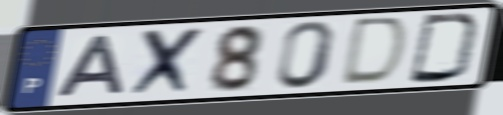0: (275, 19, 339, 91)
8: (207, 22, 268, 94)
A: (53, 33, 128, 100)
D: (406, 12, 485, 85), (336, 14, 411, 88)
X: (124, 24, 208, 100)
